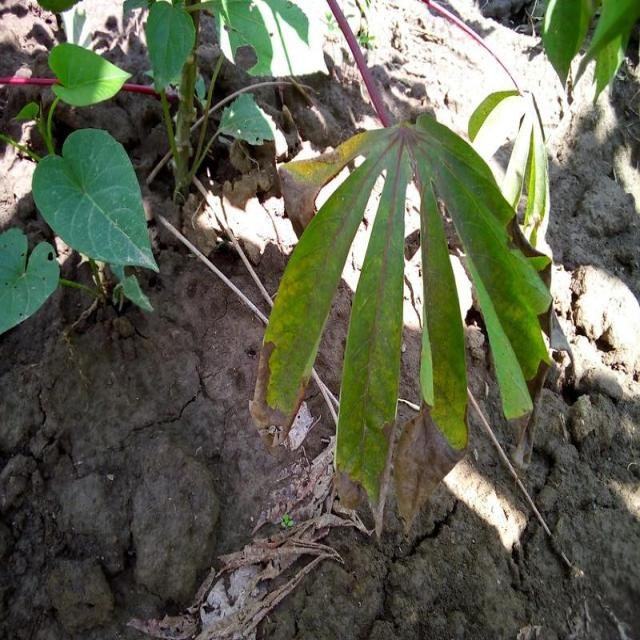cassava leaf: (253, 108, 553, 528), (30, 126, 160, 274), (0, 225, 60, 335), (46, 40, 133, 106)
